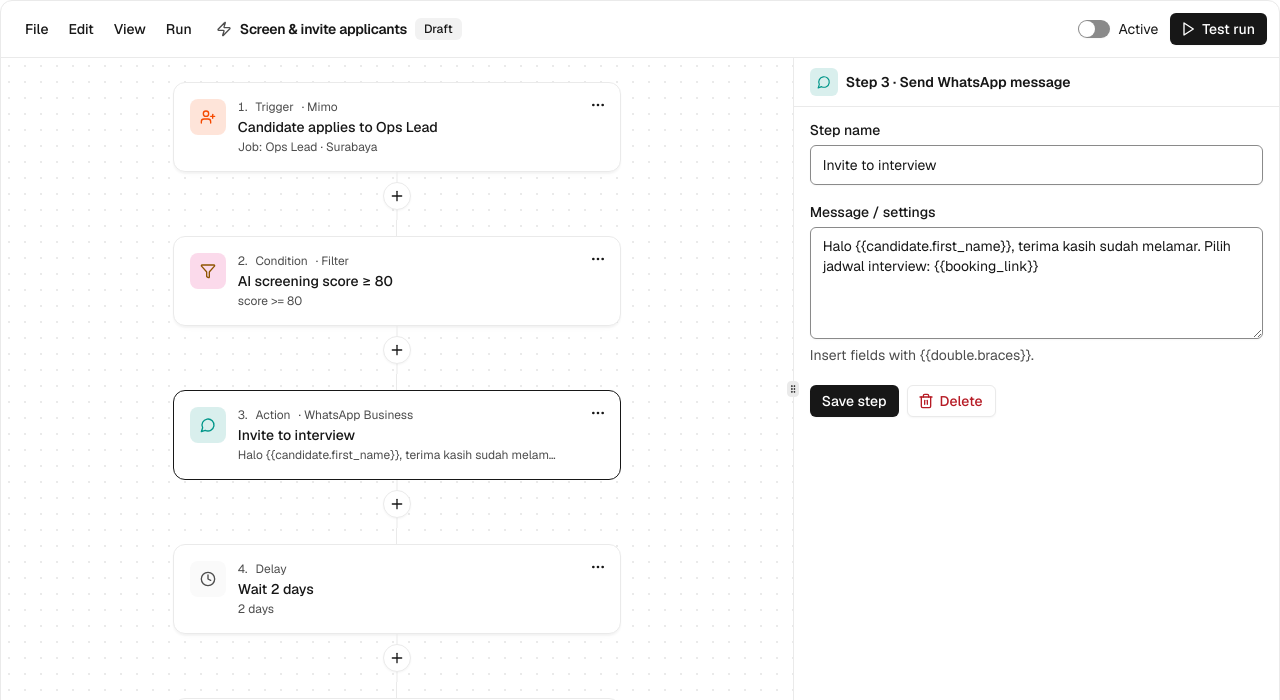
Test: WorkflowBuilder › adds a step via the + popover and announces it
Click the button named "Add a step after “Invite to interview”": (397, 504) x1=383 y1=490 x2=411 y2=518
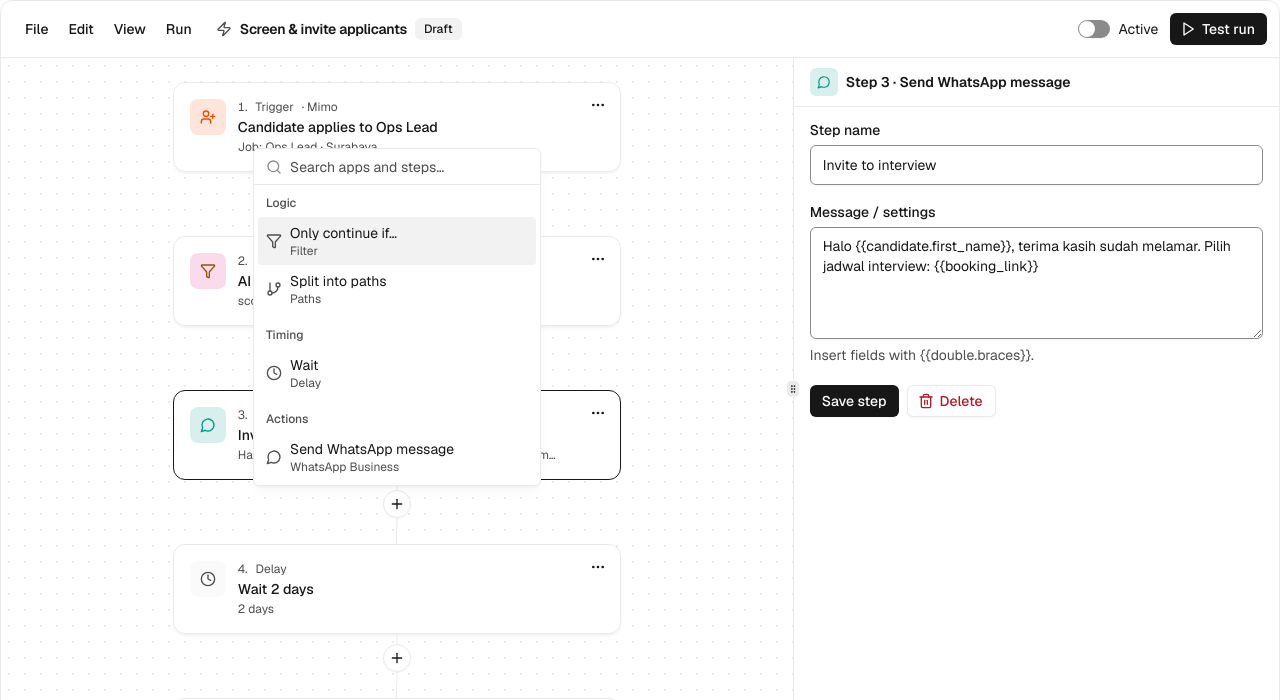
Type keys "email"
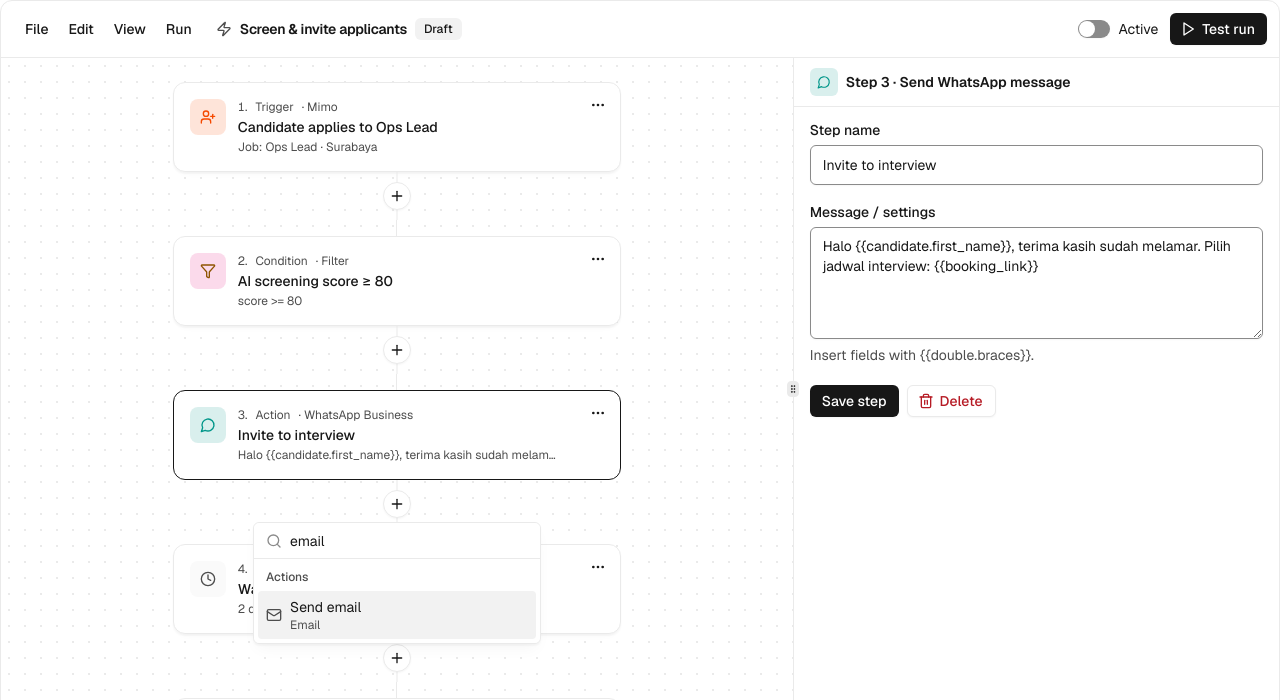
Click the option "Send email Email": (326, 607) x1=258 y1=591 x2=536 y2=639
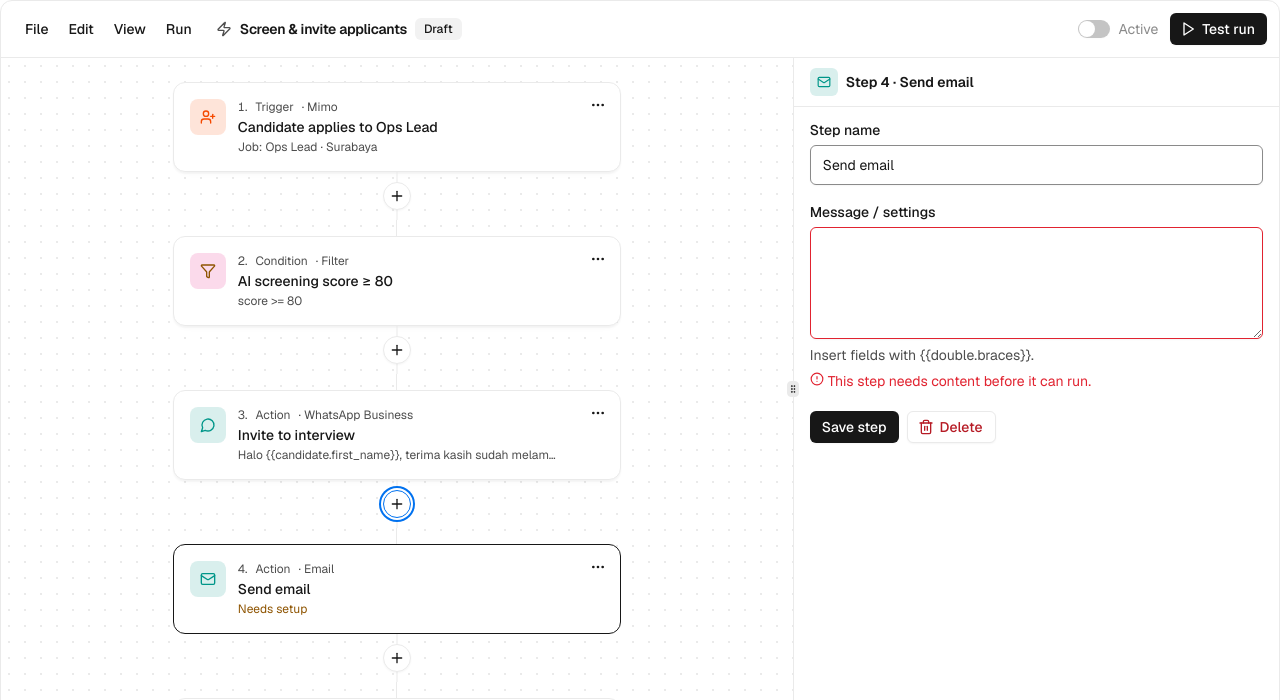
Expected: the heading "Step 4 · Send email" is shown, x1=846 y1=72 x2=974 y2=92
